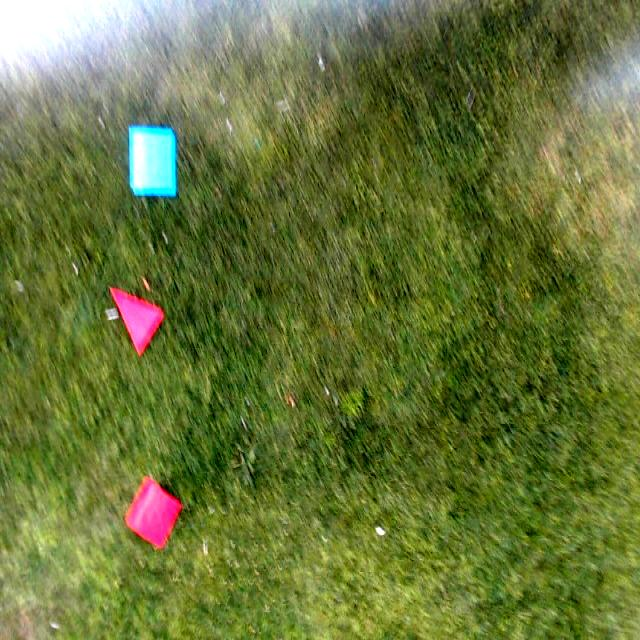blue_square: (128, 126, 175, 197)
red_square: (125, 480, 181, 548)
red_triangle: (109, 286, 163, 356)
